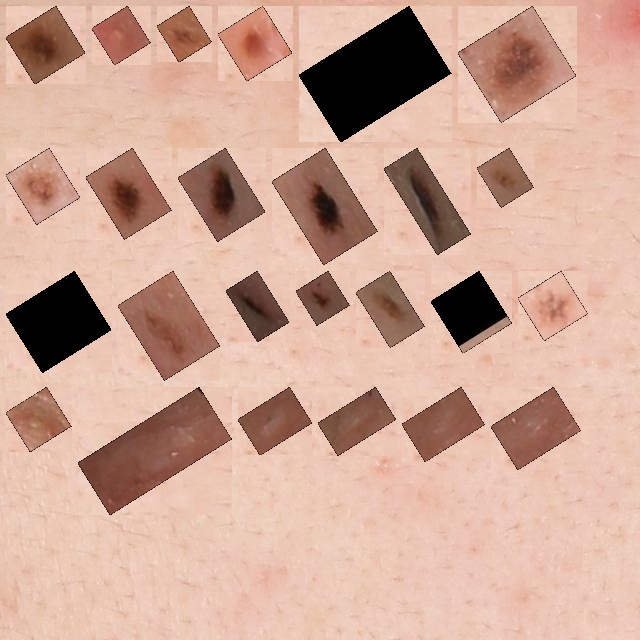hypertrophic_scar: (89, 398, 221, 503), (502, 398, 570, 458), (413, 398, 474, 450), (329, 398, 385, 444), (249, 398, 301, 444)
melasma: (310, 17, 440, 131), (129, 282, 209, 369), (17, 282, 100, 361), (442, 282, 501, 342)
nevus: (469, 17, 565, 111), (283, 159, 366, 253), (395, 159, 460, 243), (189, 159, 254, 230), (97, 159, 160, 228), (17, 17, 74, 73), (17, 159, 69, 213), (229, 17, 281, 70), (367, 282, 413, 336), (237, 282, 278, 330), (168, 17, 200, 51), (307, 282, 338, 314)
pustule: (17, 398, 60, 440), (103, 17, 139, 54)
